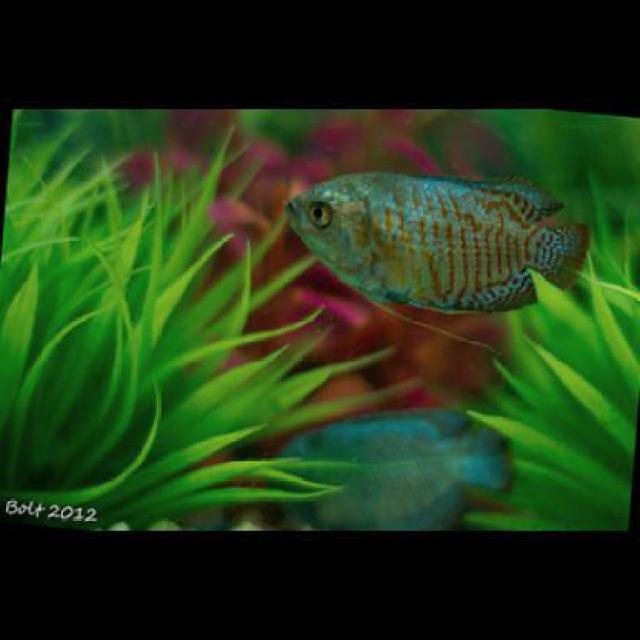Gourami: (282, 160, 595, 308)
